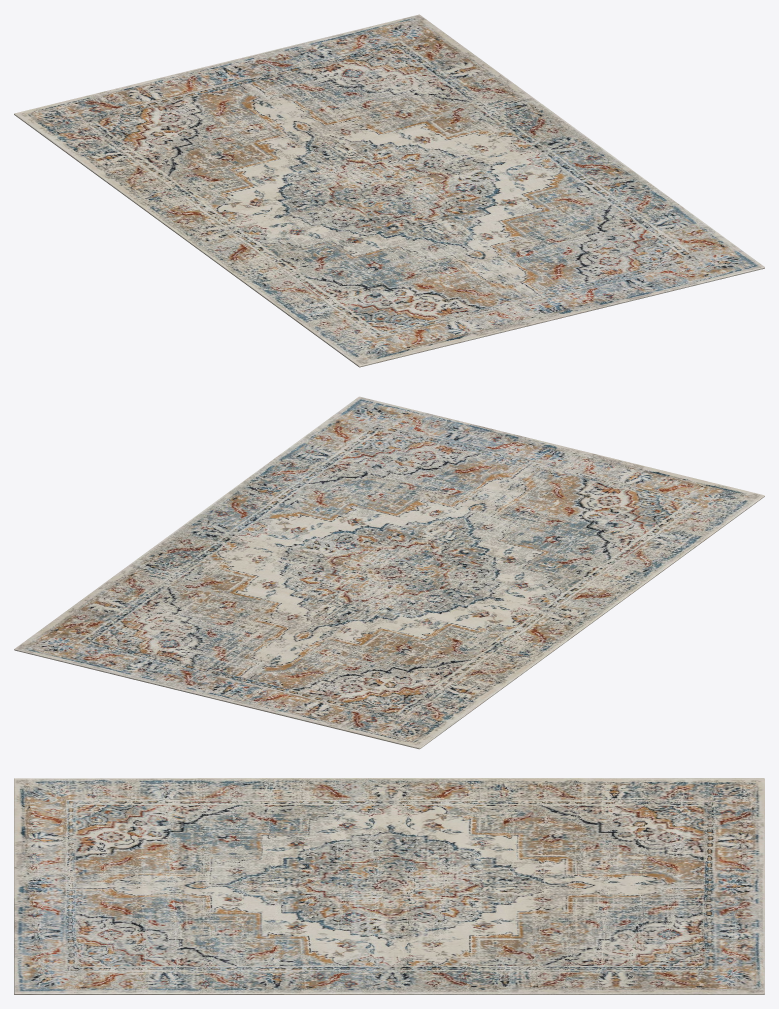
Rendered from rug_large_60497078.glb.
3 views of the same model, one above another, from view 1: azimuth 30°, elevation 25°; view 2: azimuth 150°, elevation 25°; view 3: azimuth 270°, elevation 25° (orthographic). The views are drawn at different scales.
Visible parts, largest first — view 1: G-60497078-ONSEVIG; view 2: G-60497078-ONSEVIG; view 3: G-60497078-ONSEVIG.
Part boxes in pixels (x1,y1,x2,y2): G-60497078-ONSEVIG: [14, 14, 764, 367]; G-60497078-ONSEVIG: [14, 396, 764, 749]; G-60497078-ONSEVIG: [14, 778, 764, 994].
Bounding box in the file's own units: 1.6 × 0.00604 × 2.36.
1 material, 1 textured.
